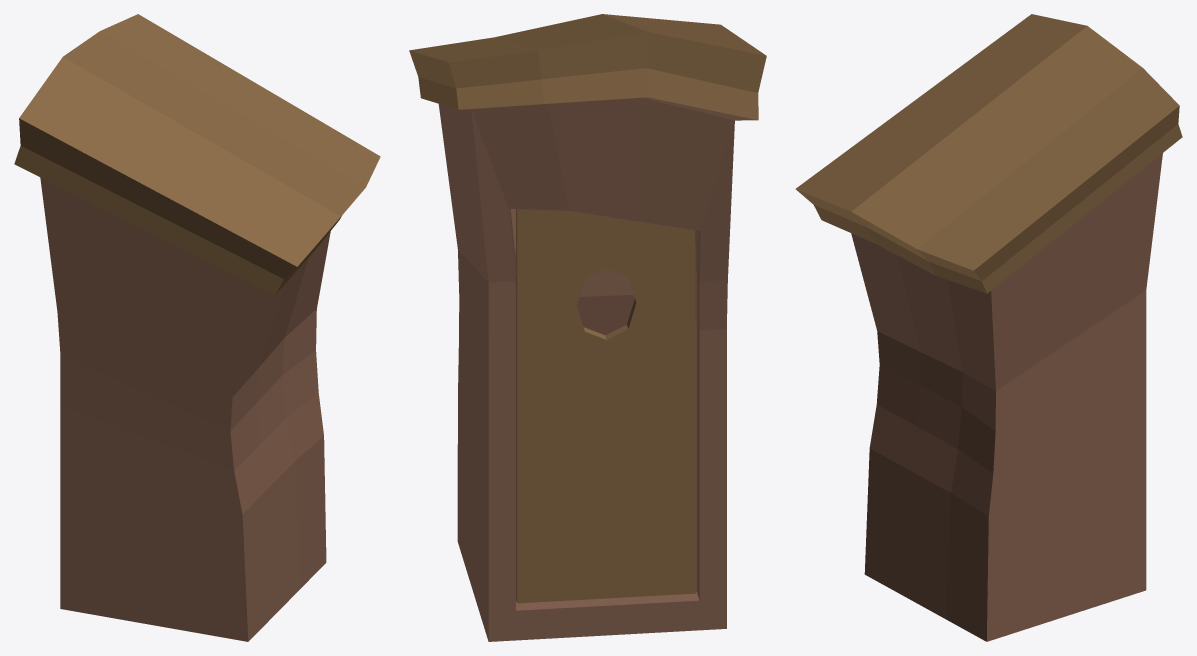
The model's file is Outhouse.glb.
3 views of the same model, side by side, from view 1: azimuth 30°, elevation 25°; view 2: azimuth 150°, elevation 25°; view 3: azimuth 270°, elevation 25° (orthographic). The views are drawn at different scales.
Visible parts, largest first — view 1: Outhouse; view 2: Outhouse; view 3: Outhouse.
Boxes of the visible parts, x1,y1,x2,y2 form: Outhouse: [14, 14, 380, 641]; Outhouse: [409, 14, 766, 641]; Outhouse: [795, 14, 1182, 641].
Bounding box in the file's own units: 2.74 × 4.09 × 2.8.
